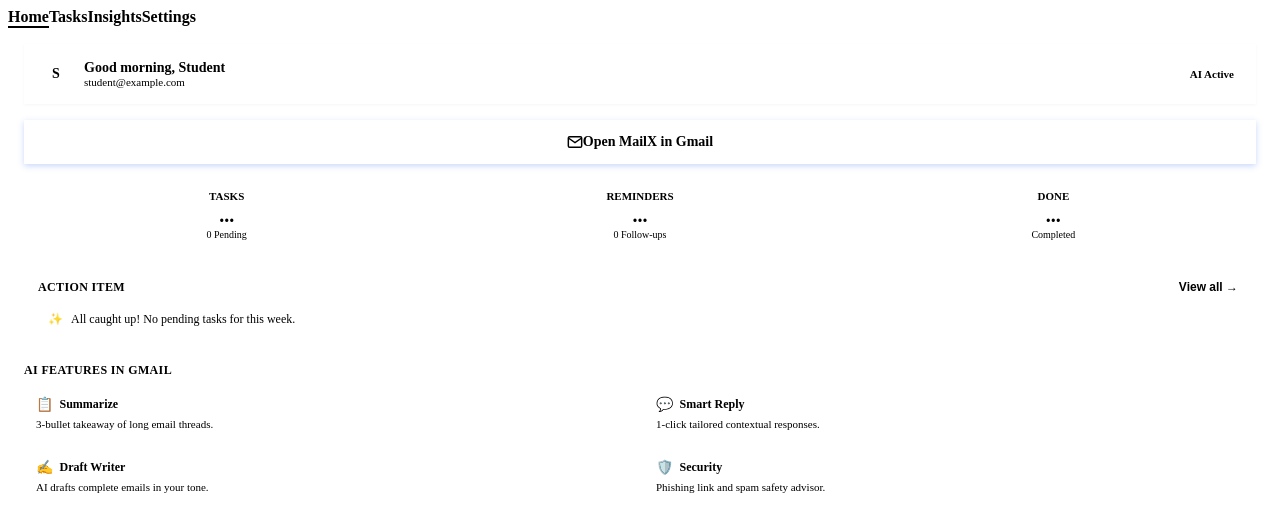
Test: popup Phase 0 baseline › keeps task errors visible after a failed task mutation
Expected: the text "Home" is shown, [8,8,49,26]
Click the tab "Tasks": click(68, 18) [49,8,88,28]
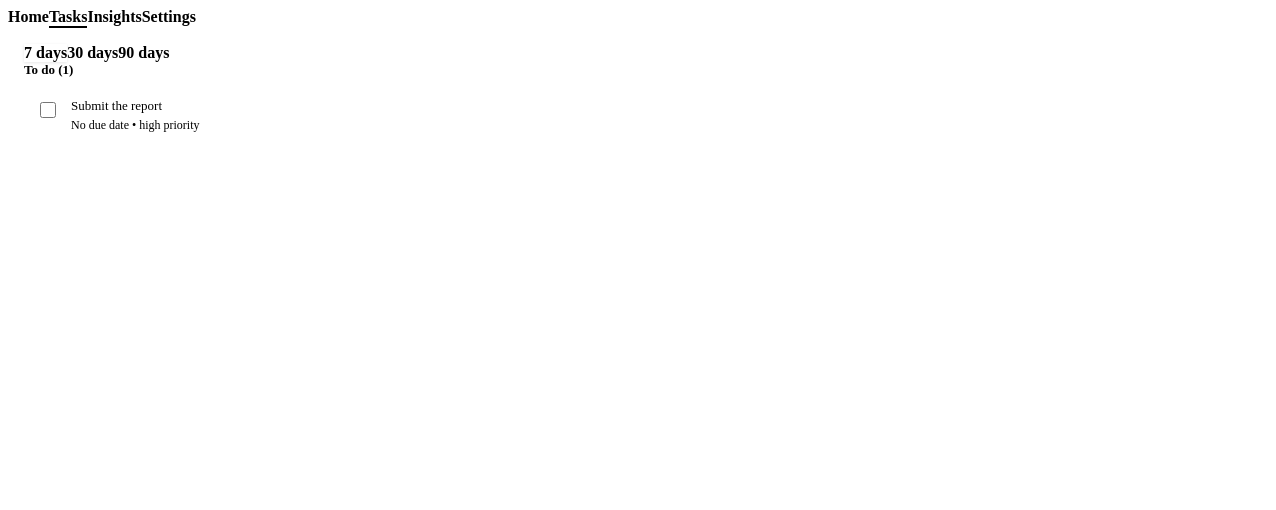
Click the checkbox labelled "Submit the report": click(48, 110) [40,102,56,118]
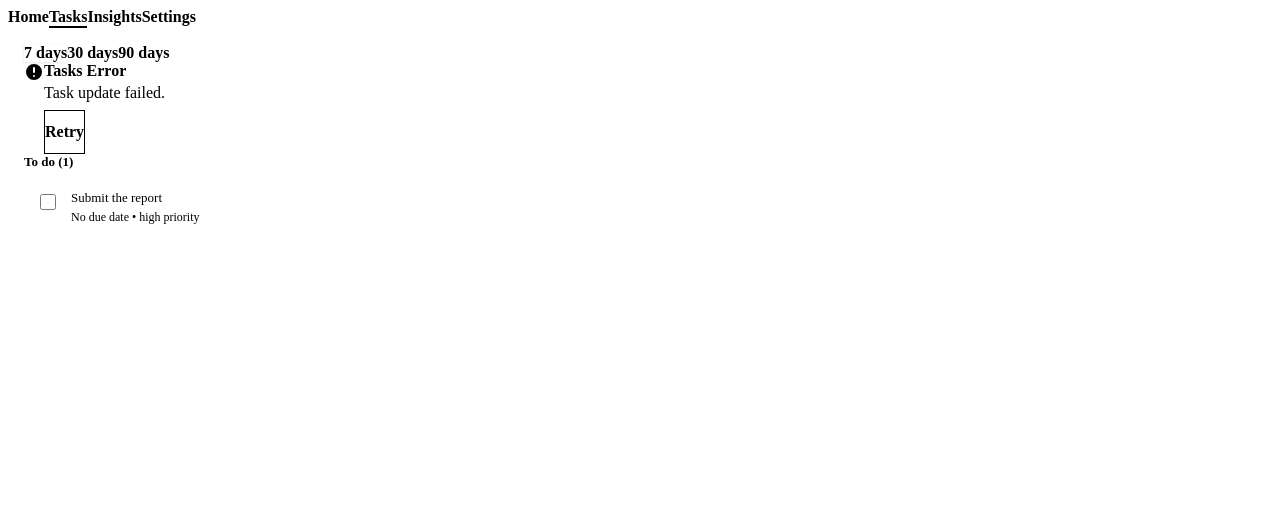
Expected: the text "Task update failed." is shown, [44,84,165,101]
